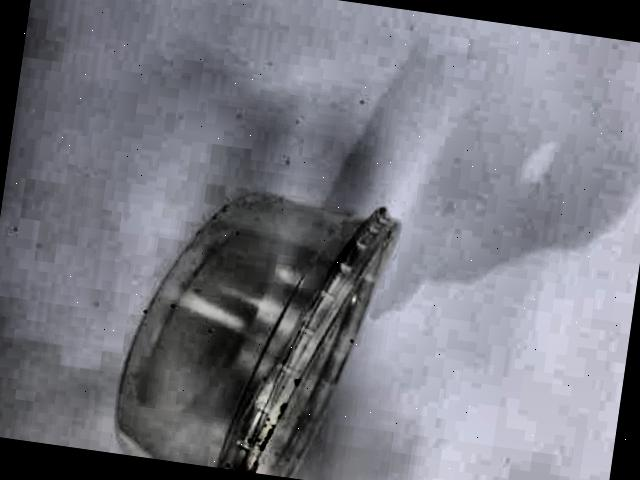Plastic: (86, 171, 400, 480)
